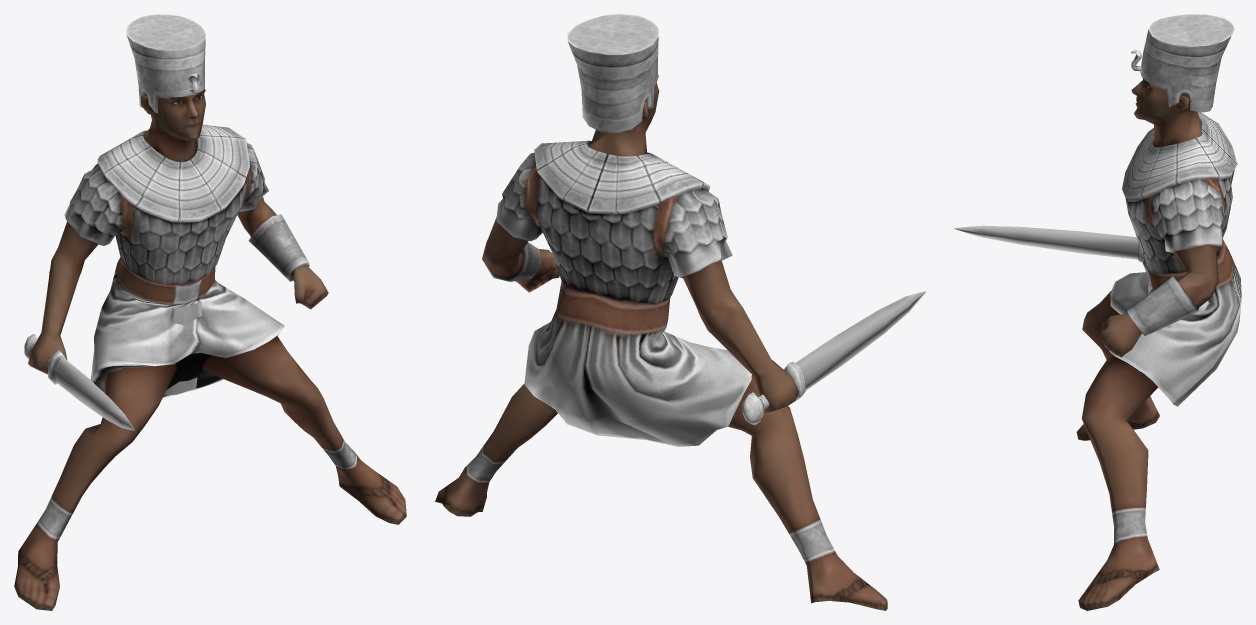
The model's file is rider-championcamelriders.glb.
The picture shows the model from 3 angles, left to right: view 1: azimuth 30°, elevation 25°; view 2: azimuth 150°, elevation 25°; view 3: azimuth 270°, elevation 25°; orthographic projection. The views are drawn at different scales.
Size of the model in its own units: 1.55 by 1.91 by 1.
3 materials, 3 textured.
